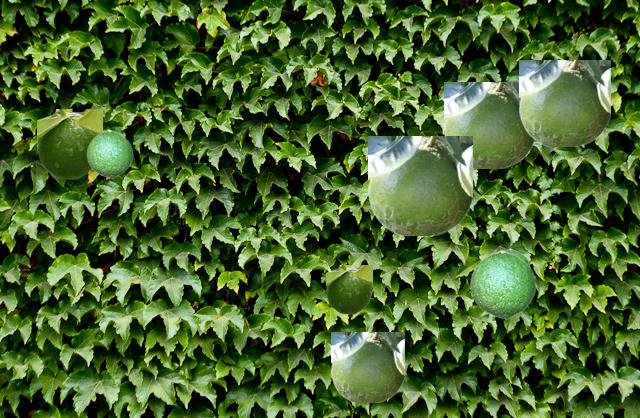dalandan: (368, 136, 471, 234), (444, 82, 534, 167), (519, 60, 609, 145), (331, 332, 403, 401), (469, 249, 535, 318), (37, 109, 101, 178), (86, 129, 132, 177), (326, 265, 371, 313), (506, 248, 529, 264)
